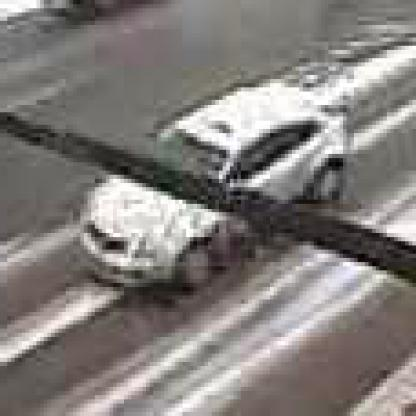car: (81, 89, 348, 297)
